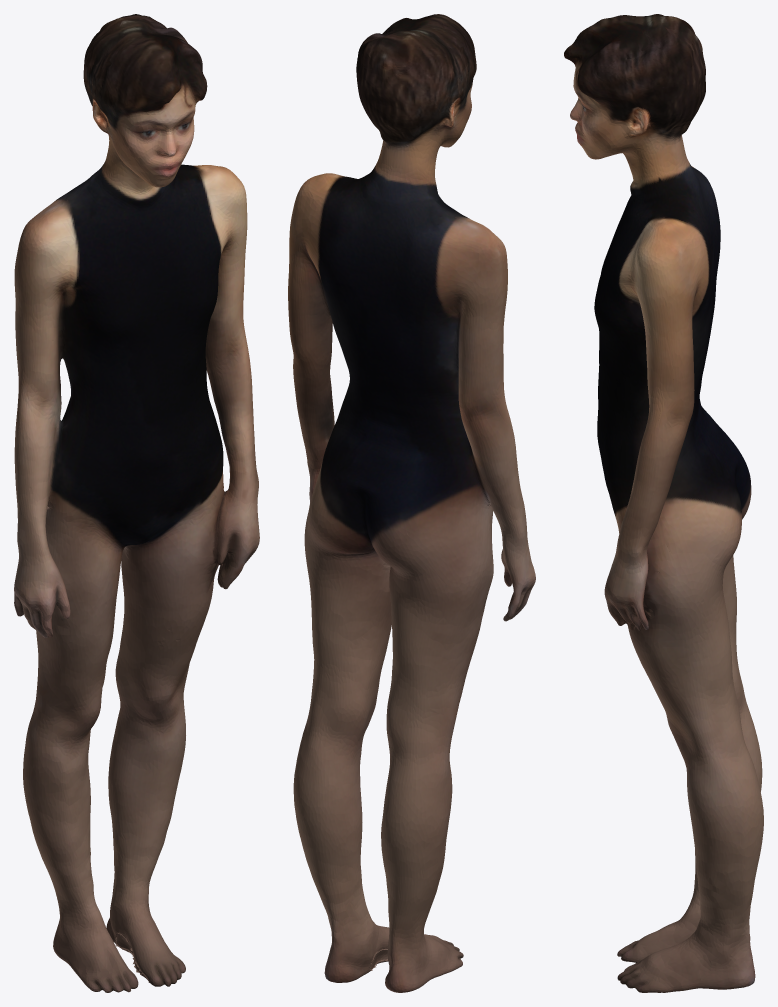
File: eloisa.obj
The picture shows the model from 3 angles, left to right: view 1: azimuth 30°, elevation 25°; view 2: azimuth 150°, elevation 25°; view 3: azimuth 270°, elevation 25°; orthographic projection. The views are drawn at different scales.
Parts seen in each view (by area): view 1: Group229; view 2: Group229; view 3: Group229.
Part boxes in pixels (x1=…): Group229: x1=14, y1=14, x2=259, y2=992; Group229: x1=288, y1=14, x2=535, y2=992; Group229: x1=564, y1=14, x2=763, y2=992.
Size of the model in its own units: 43.9 by 171 by 32.51.
1 material, 1 textured.
